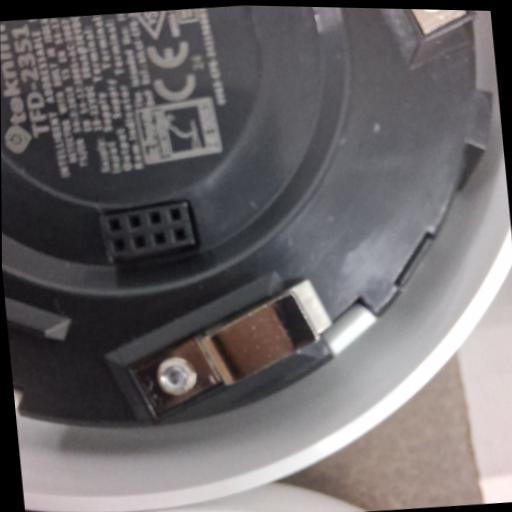yayli: (108, 270, 335, 429)
